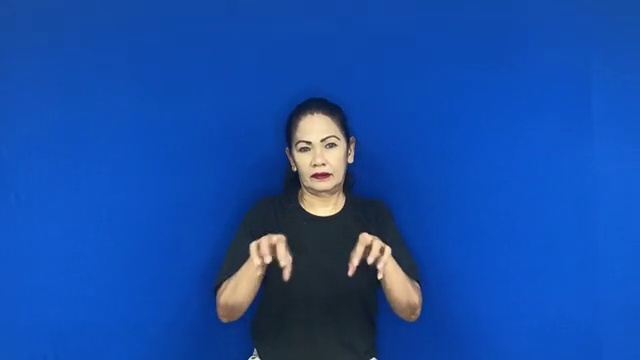egg: (241, 226, 401, 284)
